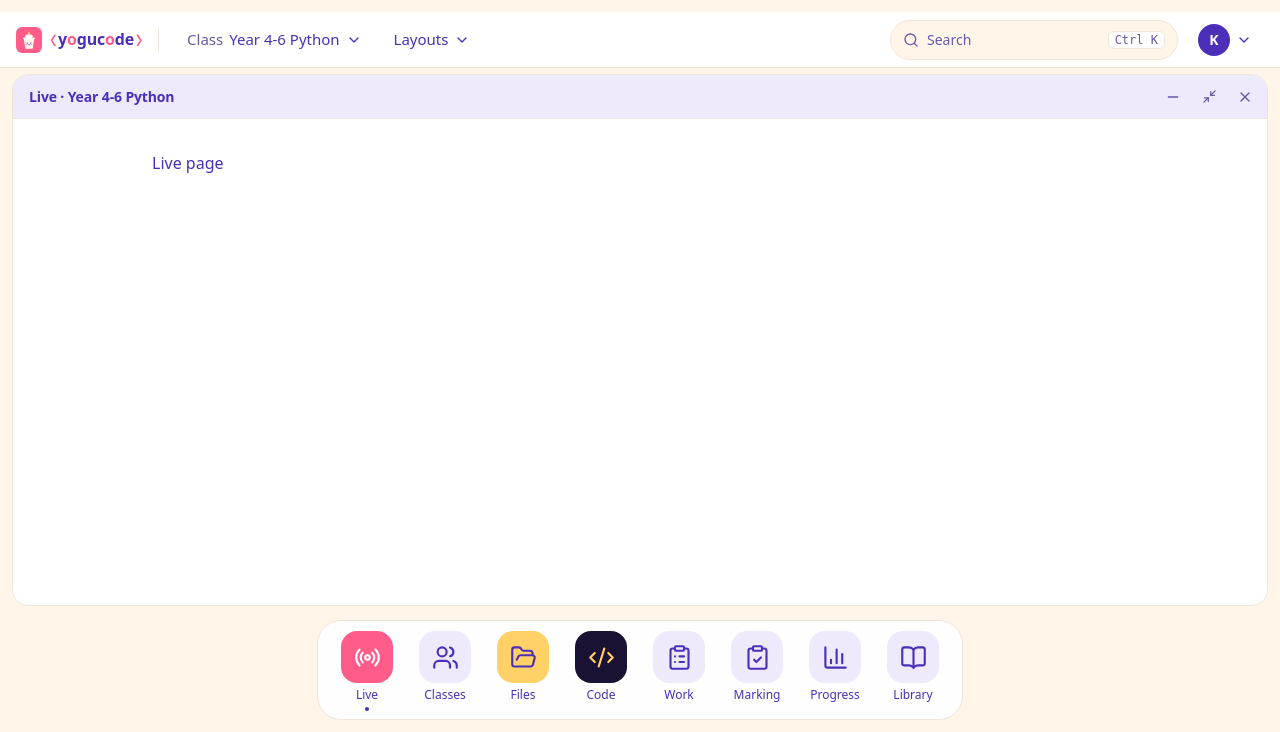
Test: a teacher can make a window of a full-screen app
The width and height of the screenshot is (1280, 732).
Expected: the text "Live page" is shown, [152,152,224,174]
Click the button named "Make it a window" at (1209, 96), box [1193,80,1225,112]
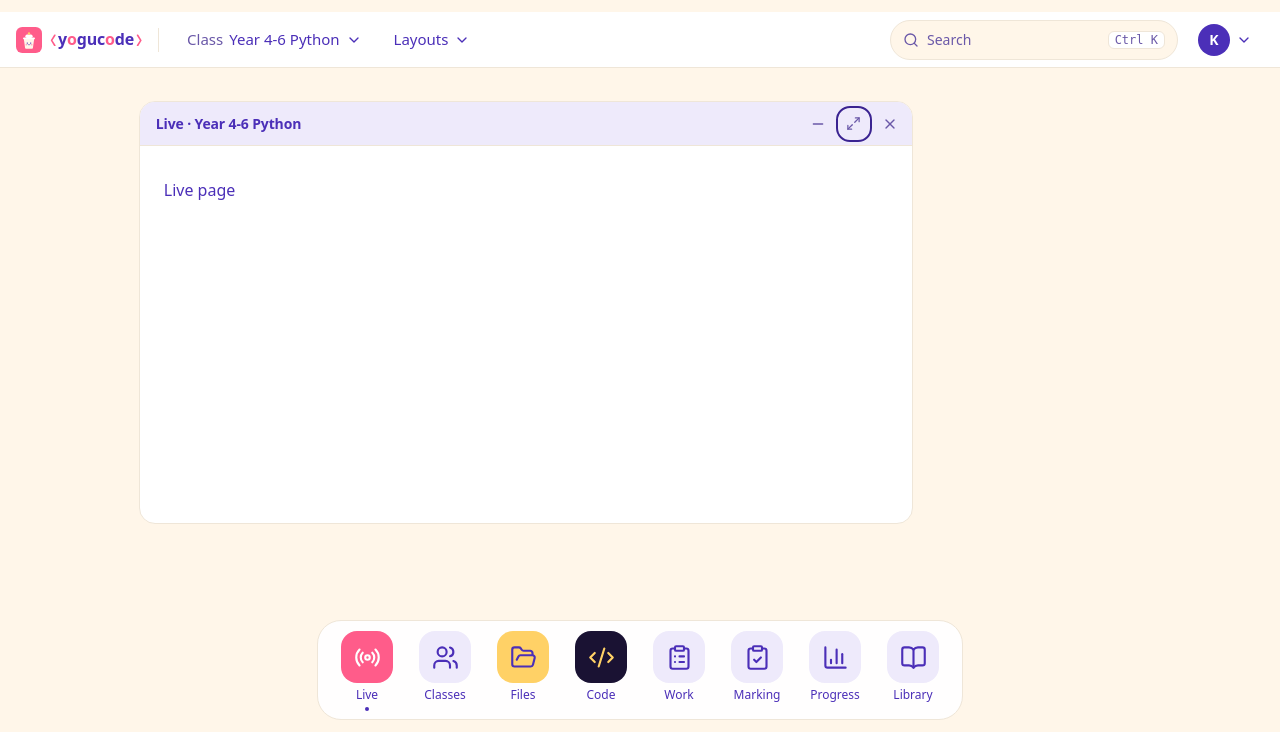
Expected: the button named "Full screen" is shown, [838,108,870,140]
